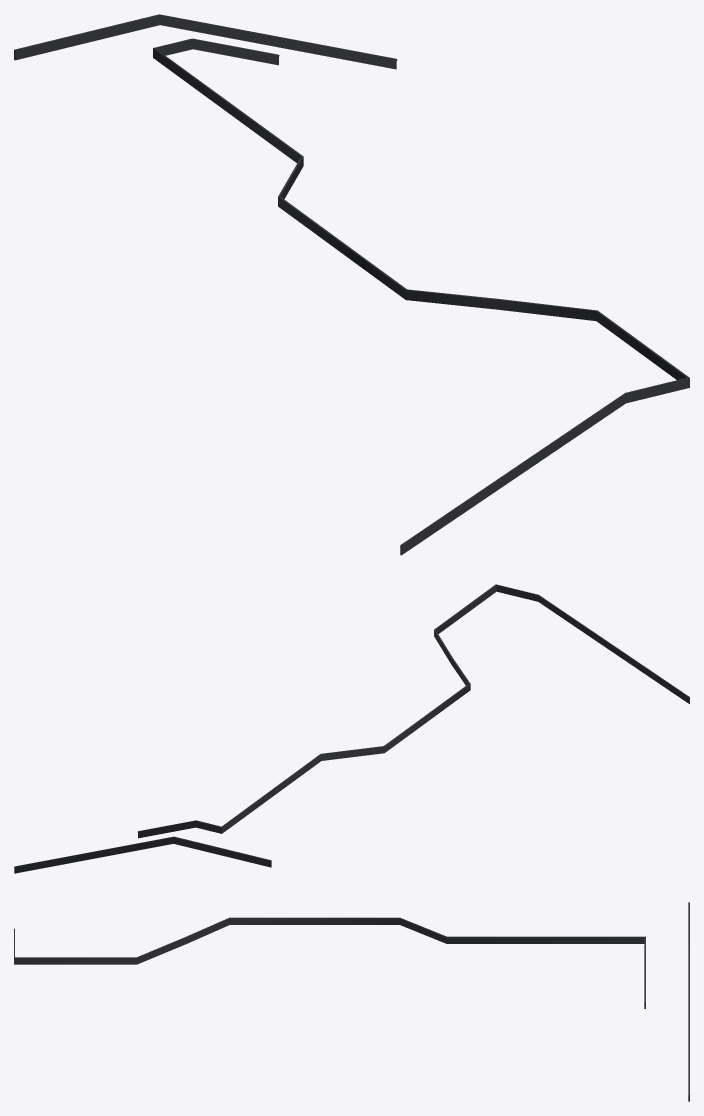
Rendered from SM_GameArea_Wall_05_Line_01.fbx.
3 views of the same model, one above another, from view 1: azimuth 30°, elevation 25°; view 2: azimuth 150°, elevation 25°; view 3: azimuth 270°, elevation 25° (orthographic). The views are drawn at different scales.
Visible parts, largest first — view 1: SM_GameArea_Wall_05_Line_01; view 2: SM_GameArea_Wall_05_Line_01; view 3: SM_GameArea_Wall_05_Line_01.
Boxes of the visible parts, left/top/right/bottom form: SM_GameArea_Wall_05_Line_01: left=14, top=14, right=689, bottom=555; SM_GameArea_Wall_05_Line_01: left=14, top=584, right=689, bottom=873; SM_GameArea_Wall_05_Line_01: left=14, top=902, right=689, bottom=1101.
Size of the model in its own units: 77.05 by 16.5 by 135.
1 material, 1 textured.
